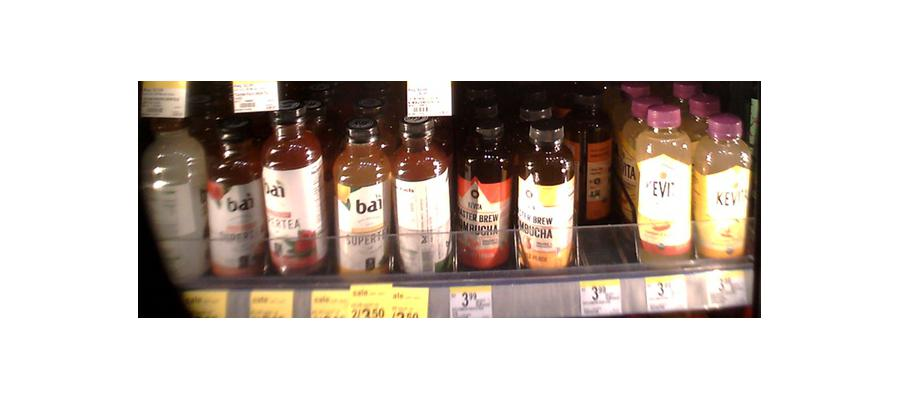bottle: (263, 99, 327, 279), (631, 102, 698, 266), (146, 107, 207, 280), (392, 111, 452, 277), (330, 113, 388, 275), (455, 117, 515, 273), (519, 116, 576, 274), (209, 116, 263, 279), (698, 111, 751, 268), (570, 89, 616, 227)
